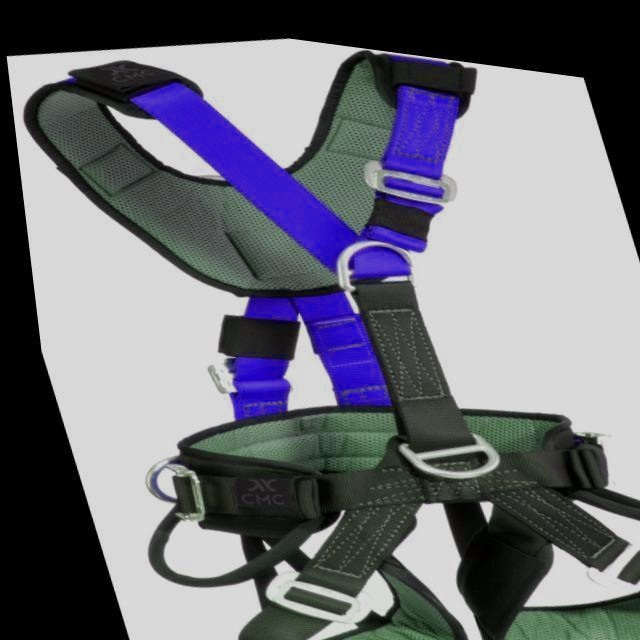safety belt: (34, 48, 633, 620)
